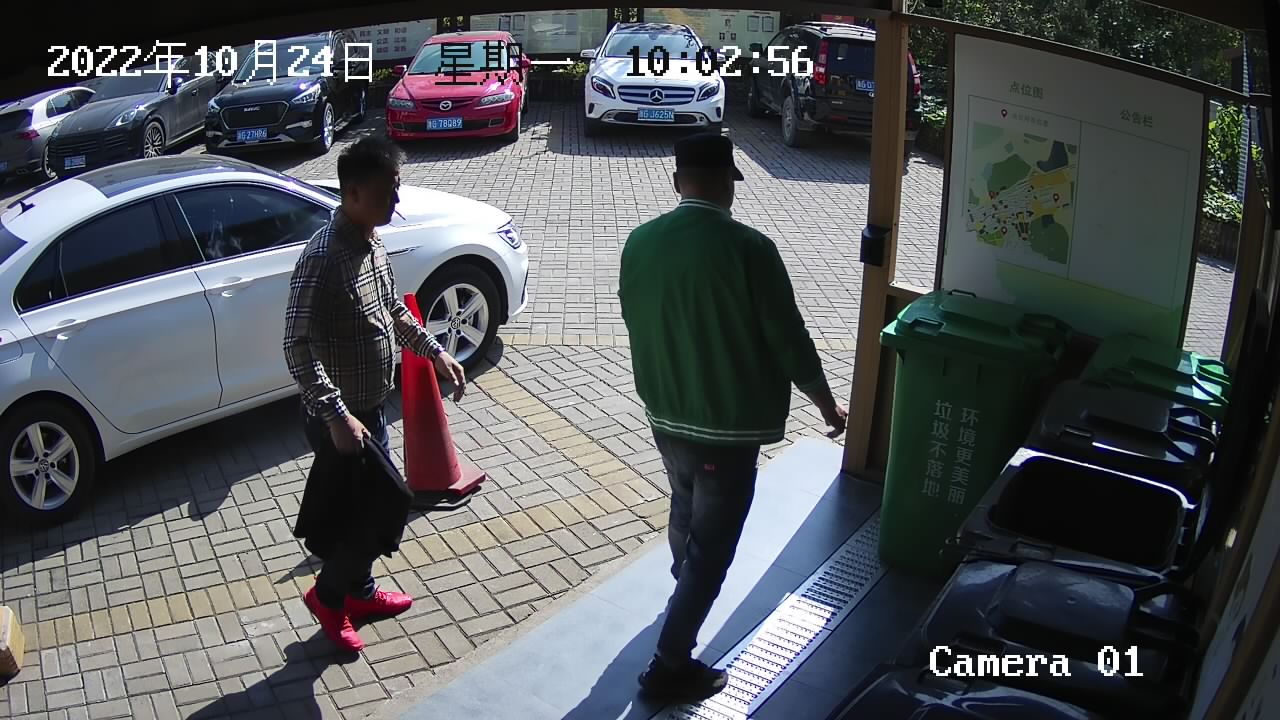person: (612, 125, 853, 704), (278, 134, 475, 660)
